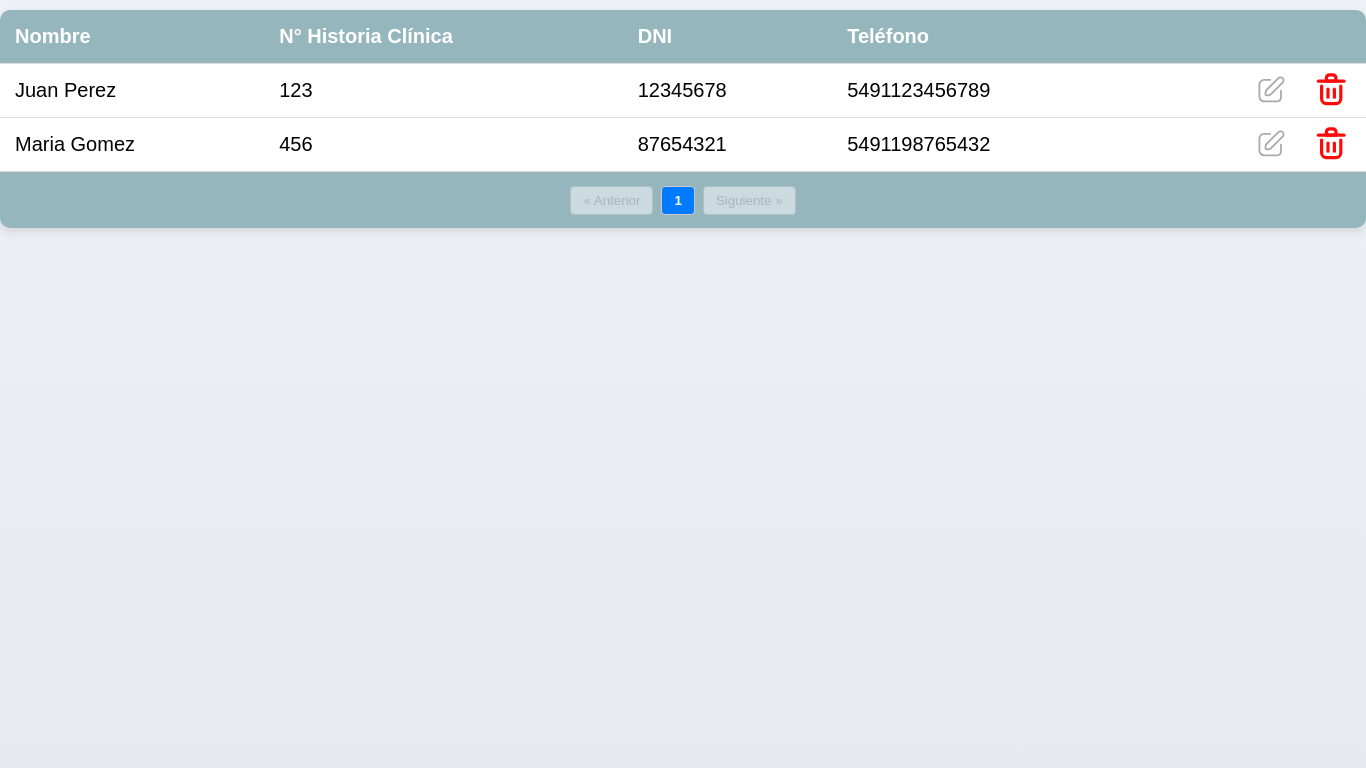
Scenario: PersonTable › abre modal de confirmación al hacer click en borrar
Expected: the text "Juan Perez" is shown, [0,64,264,118]
Click the 2nd button.
click(1331, 89)  # box [1301,69,1361,109]
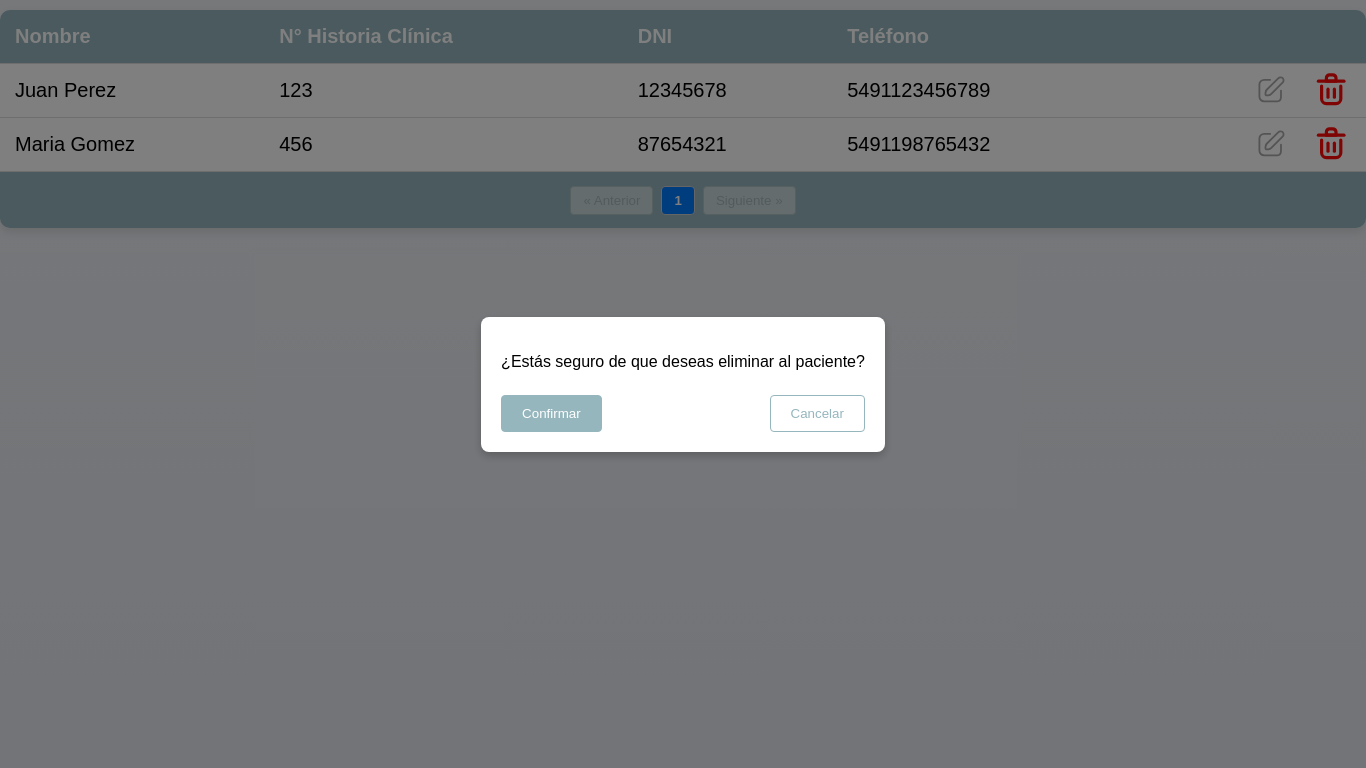
Expected: the text "¿Estás seguro de que deseas eliminar al paciente?" is shown, [501,352,865,370]
